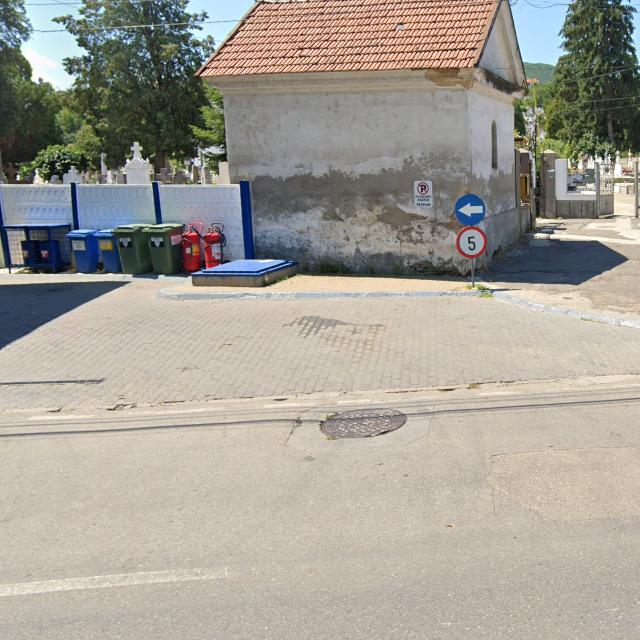forb_speed_over_5: (456, 225, 487, 258)
mand_pass_left: (453, 192, 486, 225)
